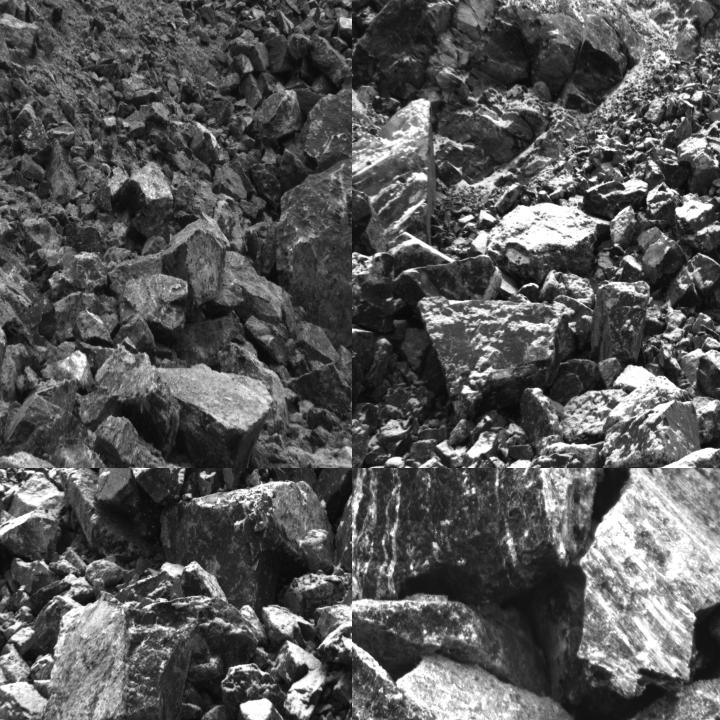stone: (352, 468, 631, 604), (575, 468, 719, 698), (27, 588, 200, 719), (160, 481, 334, 610), (419, 294, 568, 426), (275, 160, 351, 345), (352, 96, 434, 255), (152, 364, 267, 467), (77, 345, 181, 448), (64, 468, 166, 567), (488, 201, 597, 278), (0, 383, 95, 460), (598, 400, 702, 467), (161, 215, 227, 314), (170, 172, 250, 253), (212, 250, 288, 327), (70, 468, 160, 531), (301, 94, 351, 204), (391, 258, 504, 303), (118, 274, 188, 343), (589, 282, 649, 362), (119, 163, 173, 243), (352, 243, 401, 328), (274, 644, 328, 719), (560, 388, 629, 442), (176, 314, 246, 366), (288, 363, 351, 420), (93, 468, 149, 531), (0, 505, 61, 559), (223, 665, 282, 719), (242, 312, 292, 372), (47, 252, 110, 299), (638, 226, 685, 287), (666, 254, 719, 308), (316, 605, 351, 686), (518, 388, 564, 447), (255, 90, 304, 144), (674, 196, 719, 253), (584, 178, 648, 218), (132, 468, 195, 502), (309, 36, 350, 88), (50, 437, 120, 467), (186, 121, 230, 168), (246, 214, 278, 278), (10, 557, 59, 597), (0, 682, 48, 719), (248, 161, 282, 211), (72, 311, 118, 347), (316, 468, 351, 513), (687, 392, 719, 441), (280, 148, 315, 192), (646, 183, 682, 225), (228, 36, 269, 72), (20, 117, 52, 163), (0, 395, 20, 467), (211, 162, 248, 200), (337, 485, 351, 583), (503, 453, 591, 467), (0, 642, 30, 682), (265, 34, 294, 74), (237, 700, 298, 719), (696, 347, 719, 394), (238, 193, 267, 222), (139, 101, 170, 127), (0, 0, 11, 71), (287, 33, 313, 62), (206, 100, 234, 126), (226, 55, 255, 80), (402, 457, 454, 467), (336, 15, 351, 46), (340, 0, 351, 10)
